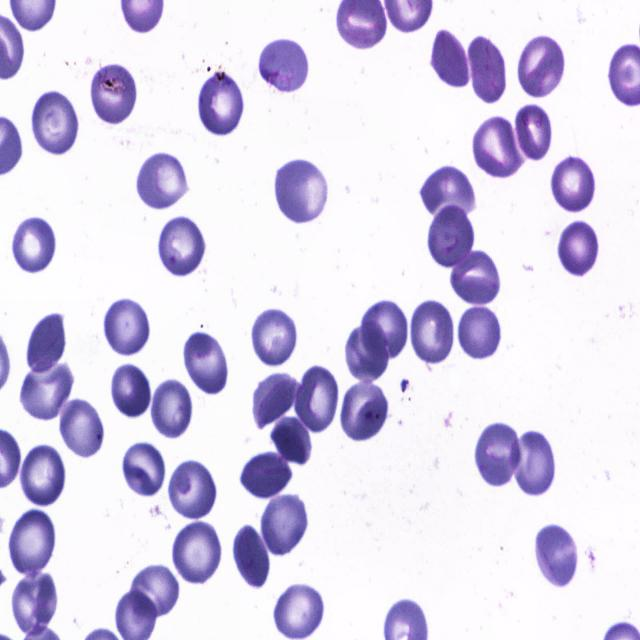red blood cell: (273, 158, 329, 226), (7, 506, 59, 579), (169, 519, 225, 586), (134, 151, 190, 213), (472, 116, 528, 178), (532, 520, 581, 590), (516, 34, 568, 99), (259, 491, 310, 557), (196, 72, 247, 138), (510, 427, 556, 500), (294, 363, 340, 436), (156, 215, 209, 278), (473, 420, 522, 488), (10, 570, 60, 636), (358, 299, 409, 363), (18, 361, 74, 419), (33, 89, 80, 158), (448, 248, 502, 308), (427, 203, 476, 269), (340, 379, 390, 443), (410, 298, 455, 368), (19, 442, 68, 506), (58, 393, 106, 458), (167, 461, 219, 520), (89, 63, 137, 126), (256, 34, 310, 90), (420, 165, 477, 218), (273, 583, 325, 640), (182, 331, 229, 394), (342, 321, 391, 381), (10, 214, 57, 276), (250, 308, 298, 366), (252, 372, 299, 431), (550, 154, 596, 213), (120, 439, 166, 498), (129, 567, 182, 618), (469, 34, 507, 105), (427, 28, 471, 89), (103, 298, 150, 355), (150, 379, 193, 441), (233, 524, 271, 591), (26, 311, 66, 374), (459, 303, 503, 360), (241, 449, 293, 497), (108, 363, 152, 419), (559, 217, 599, 278), (269, 414, 314, 467), (515, 102, 553, 159)
